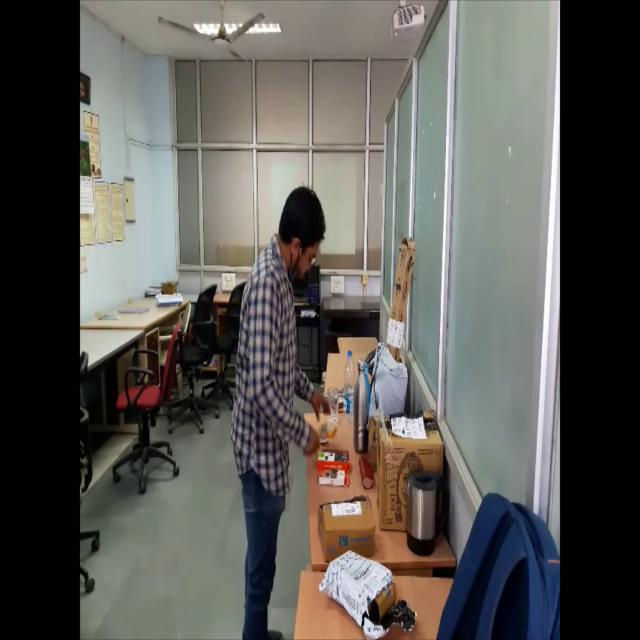normal: (225, 173, 336, 640)
